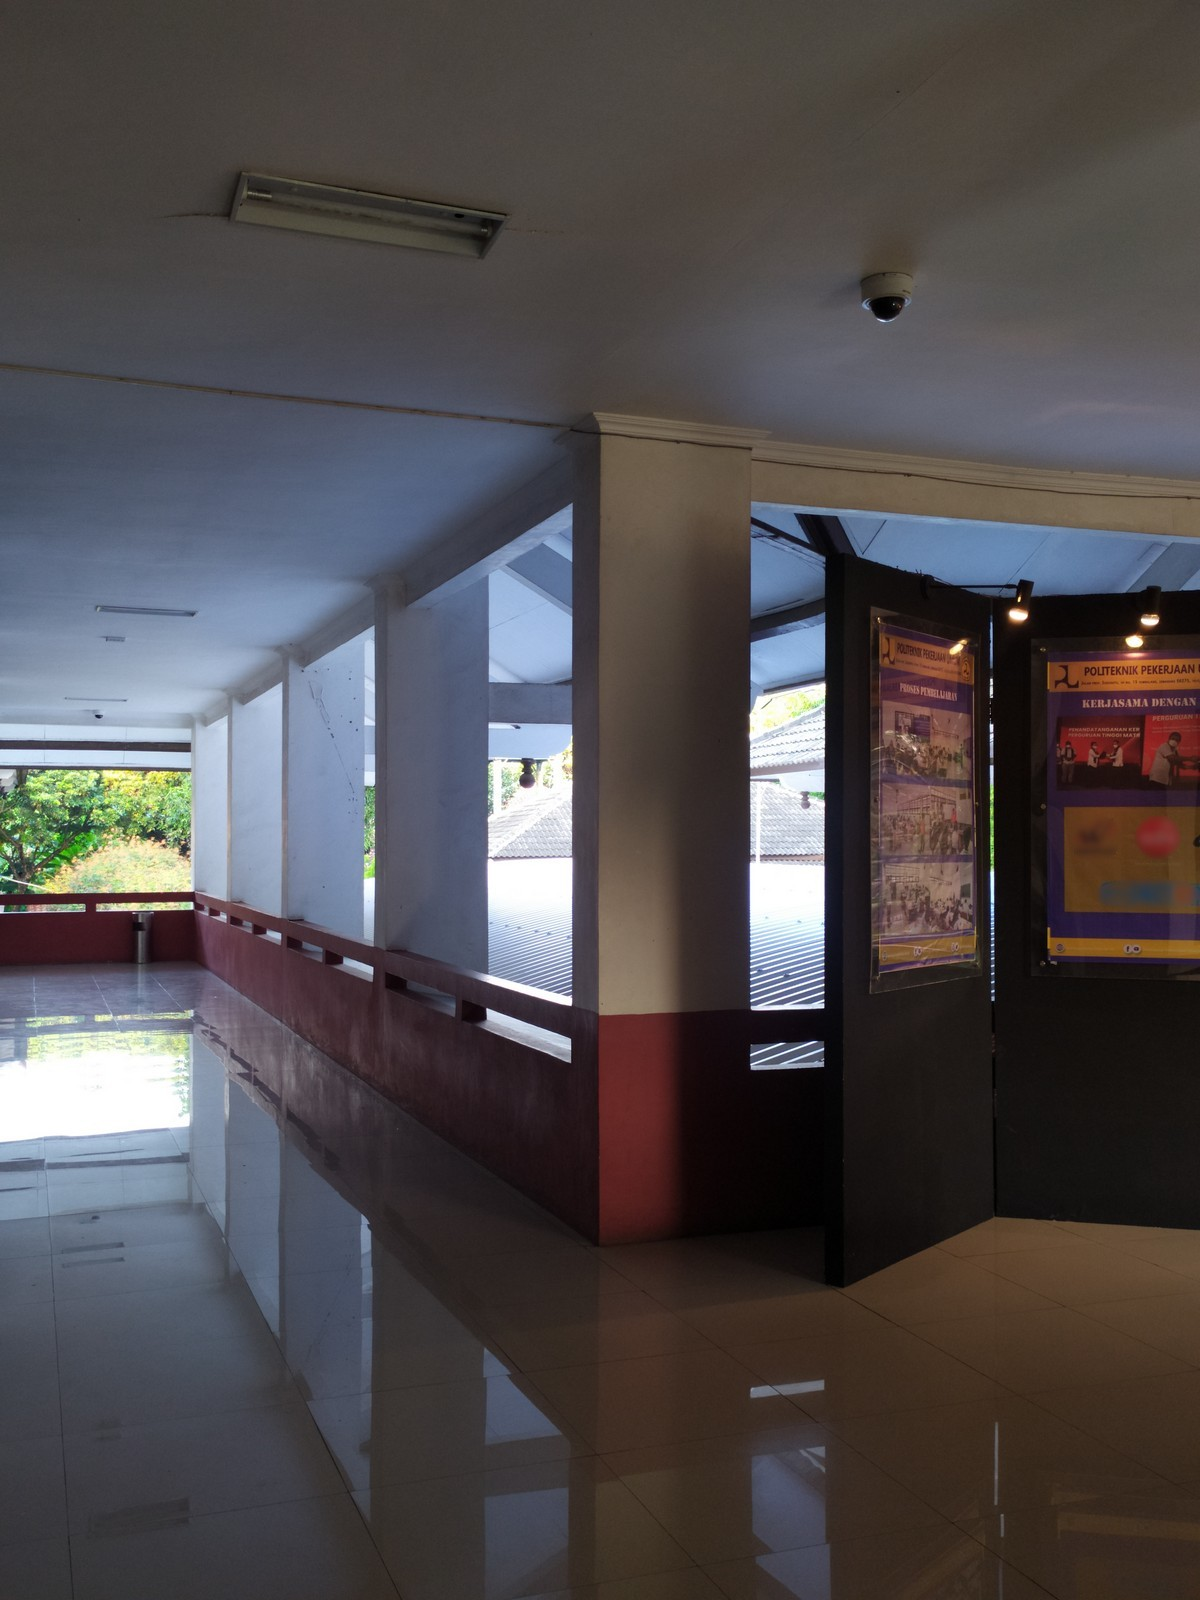concrete column: (555, 413, 766, 1236), (361, 558, 499, 993), (274, 637, 371, 932)
